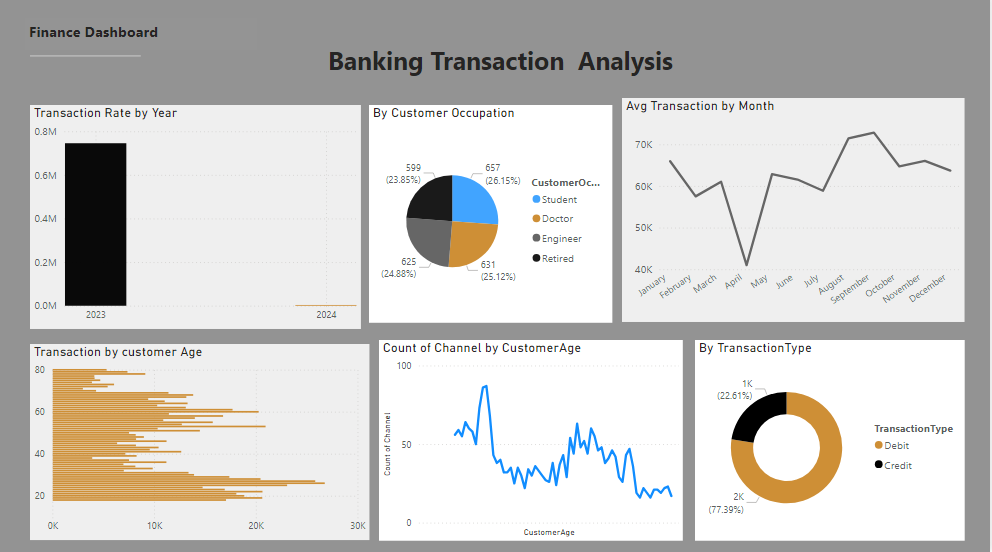

What the dashboard file says about the page in this screenshot:
{"tool":"powerbi","page":{"name":"Page 1","canvas":[1280,720],"ordinal":0},"visuals":[{"type":"columnChart","title":"Transaction Rate by Year","fields":{"Category":["bank_transactions_data_2.TransactionDate.Variation.Date Hierarchy.Year","bank_transactions_data_2.TransactionDate.Variation.Date Hierarchy.Quarter","bank_transactions_data_2.TransactionDate.Variation.Date Hierarchy.Month","bank_transactions_data_2.TransactionDate.Variation.Date Hierarchy.Day"],"Y":["Sum(bank_transactions_data_2.TransactionAmount)"]},"box":[41.3,141.8,426.7,289],"z":0},{"type":"lineChart","title":"Avg Transaction by Month","fields":{"Category":["bank_transactions_data_2.TransactionDate.Variation.Date Hierarchy.Month"],"Y":["bank_transactions_data_2.TotalAmount"]},"box":[805.2,133.5,441.8,289],"z":1000},{"type":"barChart","title":"Transaction by customer Age","fields":{"Category":["bank_transactions_data_2.CustomerAge"],"Y":["bank_transactions_data_2.TotalAmount"]},"box":[41.3,450.1,437.7,253.2],"z":2000},{"type":"donutChart","title":" By TransactionType","fields":{"Category":["bank_transactions_data_2.TransactionType"],"Y":["bank_transactions_data_2.TransactionCount"]},"box":[898.8,444.6,348.2,258.8],"z":3000},{"type":"pieChart","title":"By Customer Occupation","fields":{"Category":["bank_transactions_data_2.CustomerOccupation"],"Y":["bank_transactions_data_2.TransactionCount"]},"box":[479,141.8,313.8,280.8],"z":4000},{"type":"textbox","box":[421.2,56.4,477.6,59.2],"z":5000},{"type":"textbox","box":[34.4,30.3,300,41.3],"z":7000},{"type":"shape","box":[41.3,71.6,143.1,15.1],"z":8000},{"type":"areaChart","fields":{"Category":["bank_transactions_data_2.CustomerAge"],"Y":["CountNonNull(bank_transactions_data_2.Channel)"]},"box":[491.4,444.6,392.3,258.8],"z":9000}]}

Visuals, with their boxes in screenshot pixels (x1, y1, x2, y2), scaled from the page's 1280x720 canvas onto the 992x552 screenshot:
"Transaction Rate by Year" columnChart: 32,109,363,330
"Avg Transaction by Month" lineChart: 624,102,966,324
"Transaction by customer Age" barChart: 32,345,371,539
" By TransactionType" donutChart: 697,341,966,539
"By Customer Occupation" pieChart: 371,109,614,324
textbox: 326,43,697,89
textbox: 27,23,259,55
shape: 32,55,143,66
areaChart - bank_transactions_data_2.CustomerAge x CountNonNull(bank_transactions_data_2.Channel): 381,341,685,539
